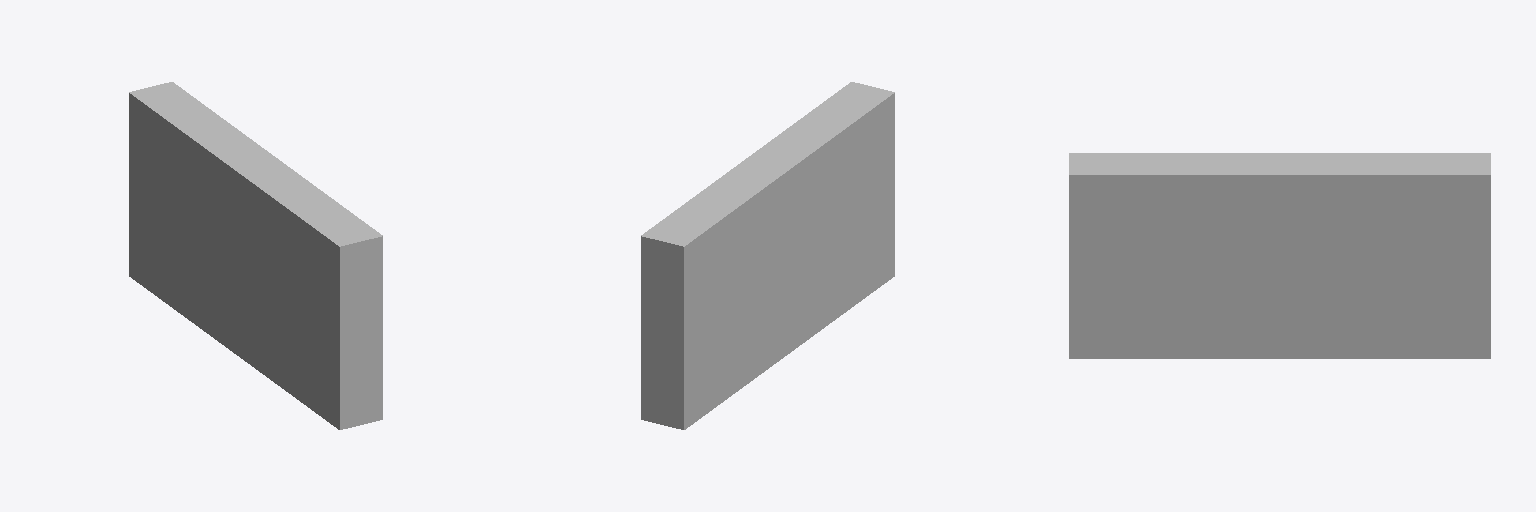
The model's file is Mouse.obj.
3 views of the same model, side by side, from view 1: azimuth 30°, elevation 25°; view 2: azimuth 150°, elevation 25°; view 3: azimuth 270°, elevation 25° (orthographic).
Bounding box in the file's own units: 3 × 12 × 25.